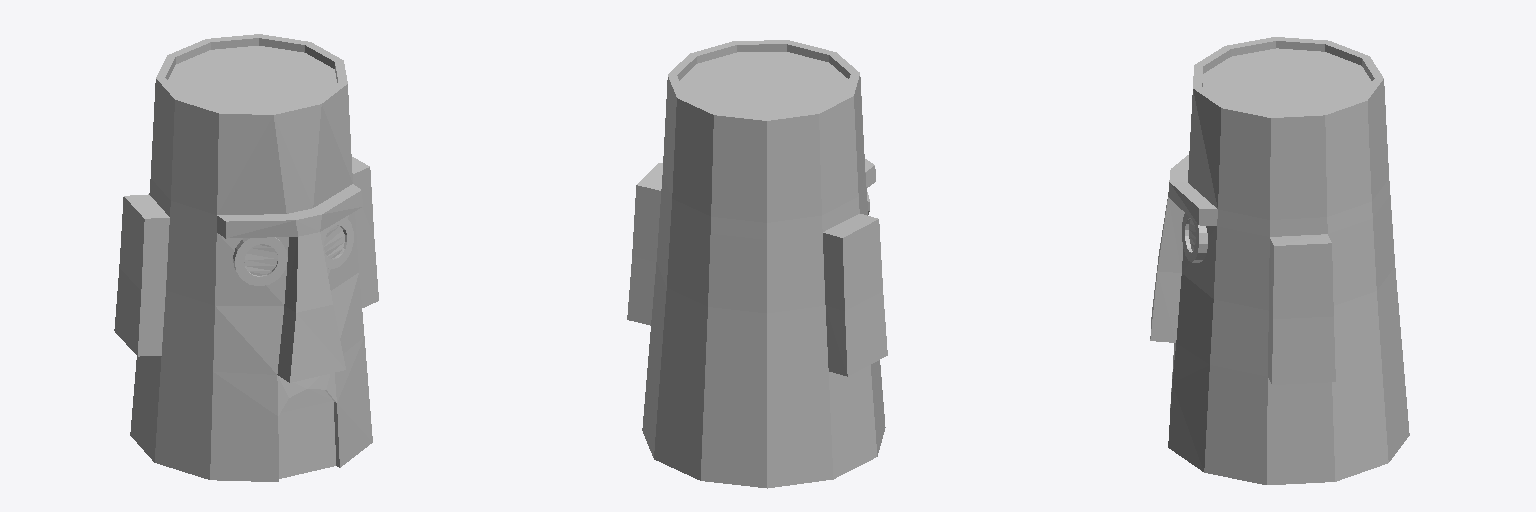
The model's file is SquidwardHouse.obj.
The picture shows the model from 3 angles: view 1: azimuth 30°, elevation 25°; view 2: azimuth 150°, elevation 25°; view 3: azimuth 270°, elevation 25°; orthographic projection.
Visible parts, largest first — view 1: House_Cylinder, Window_Circle.001; view 2: House_Cylinder; view 3: House_Cylinder, Window_Circle.001.
Boxes of the visible parts, <box> form: House_Cylinder: <box>114,34,378,481</box>; Window_Circle.001: <box>233,217,353,285</box>; House_Cylinder: <box>627,40,887,488</box>; House_Cylinder: <box>1150,37,1409,484</box>; Window_Circle.001: <box>1182,213,1207,262</box>.
Size of the model in its own units: 1.75 by 2.5 by 1.65.